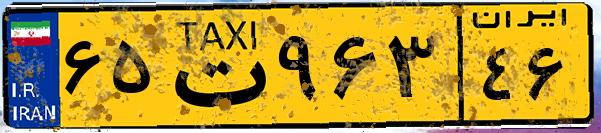3: (385, 28, 445, 110)
4: (475, 38, 525, 113)
5: (110, 28, 158, 98)
6: (330, 28, 385, 110), (57, 26, 110, 100), (525, 38, 570, 115)
9: (270, 28, 330, 110)
ت: (158, 12, 270, 120)
